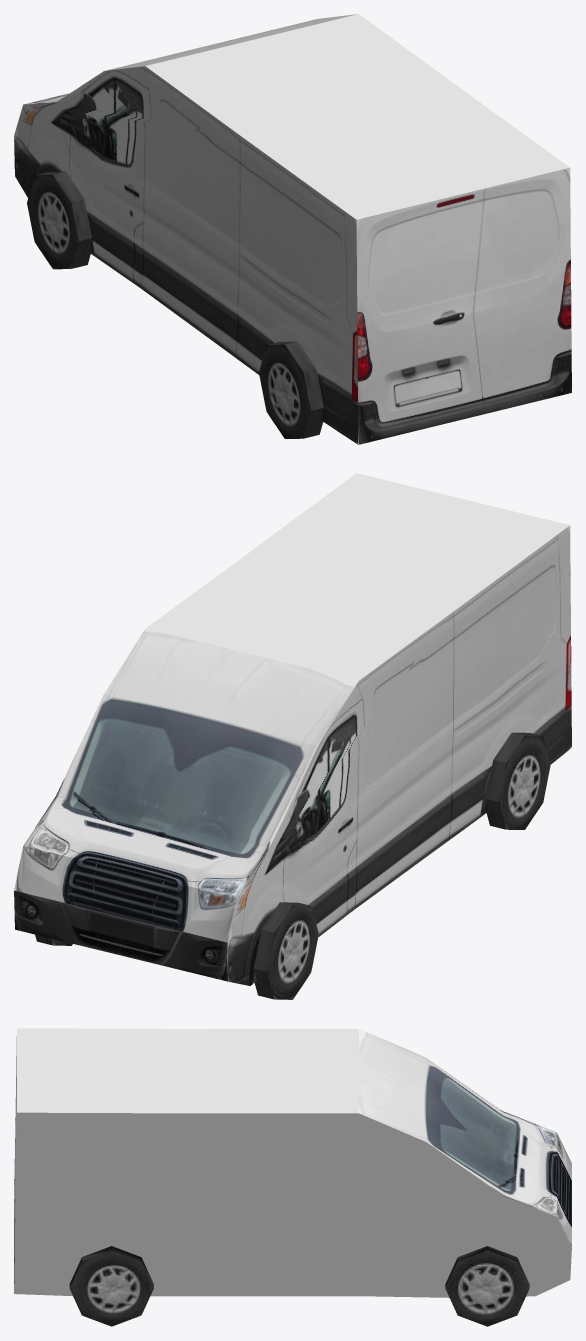
The model's file is car.fbx.
3 views of the same model, one above another, from view 1: azimuth 30°, elevation 25°; view 2: azimuth 150°, elevation 25°; view 3: azimuth 270°, elevation 25° (orthographic). The views are drawn at different scales.
Visible parts, largest first — view 1: Cylinder.001; view 2: Cylinder.001; view 3: Cylinder.001.
Boxes of the visible parts, box(x1,y1,x2,y2) form: Cylinder.001: box(14, 14, 571, 444); Cylinder.001: box(14, 473, 571, 999); Cylinder.001: box(14, 1028, 571, 1326).
Bounding box in the file's own units: 550 × 572 × 1380.
